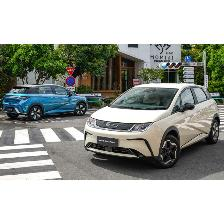EV: (85, 85, 221, 170)
